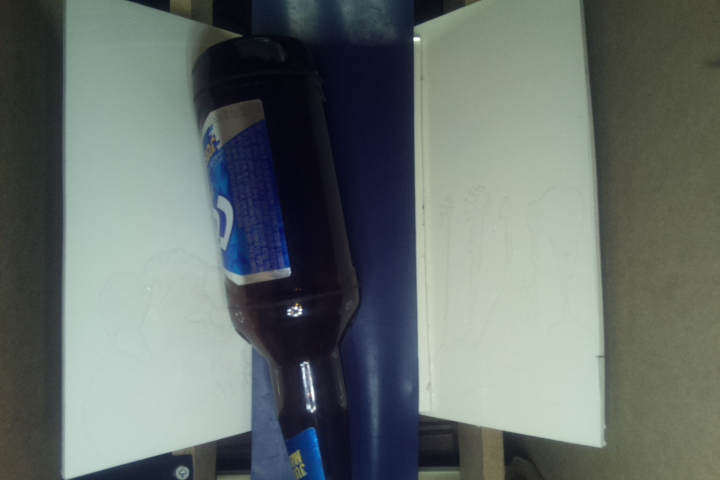makju: (190, 34, 365, 480)
